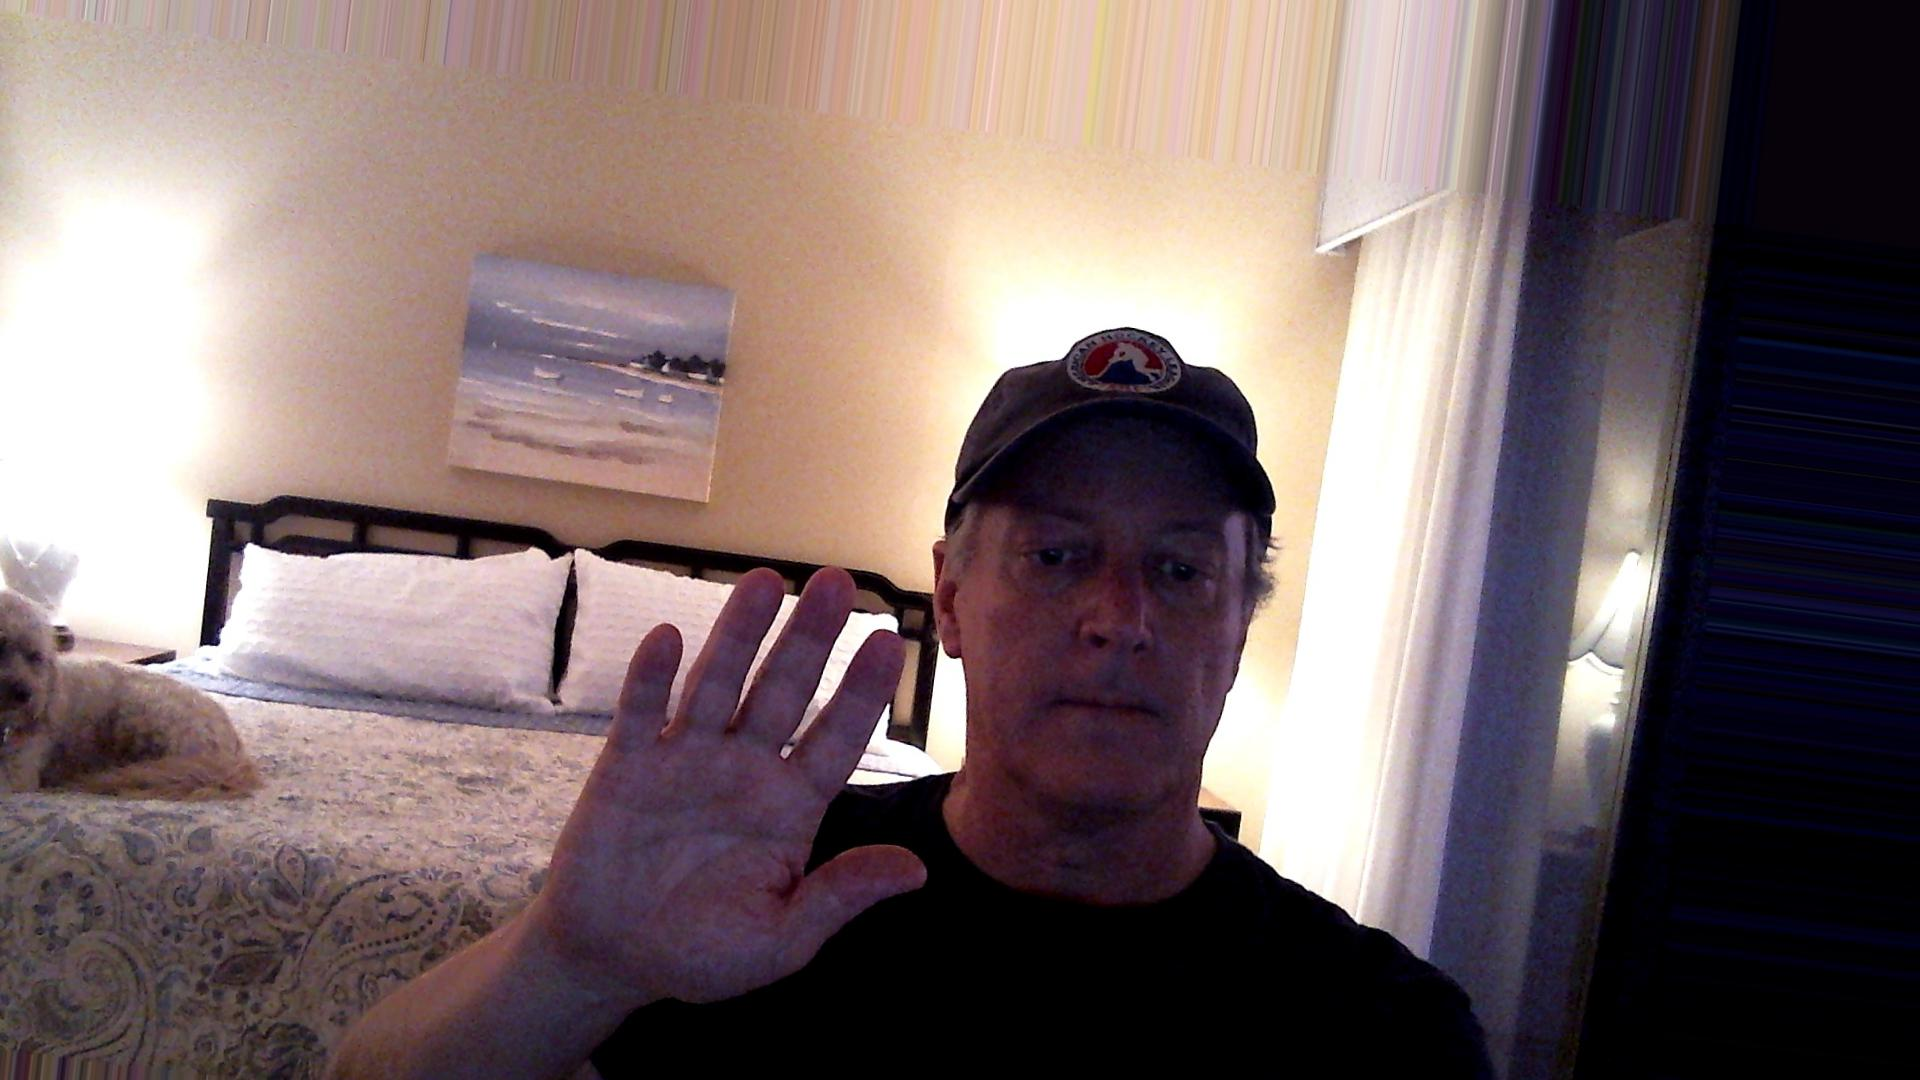Hello: (541, 550, 949, 1018)
